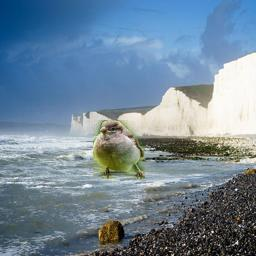Sparrow: (93, 120, 145, 179)
